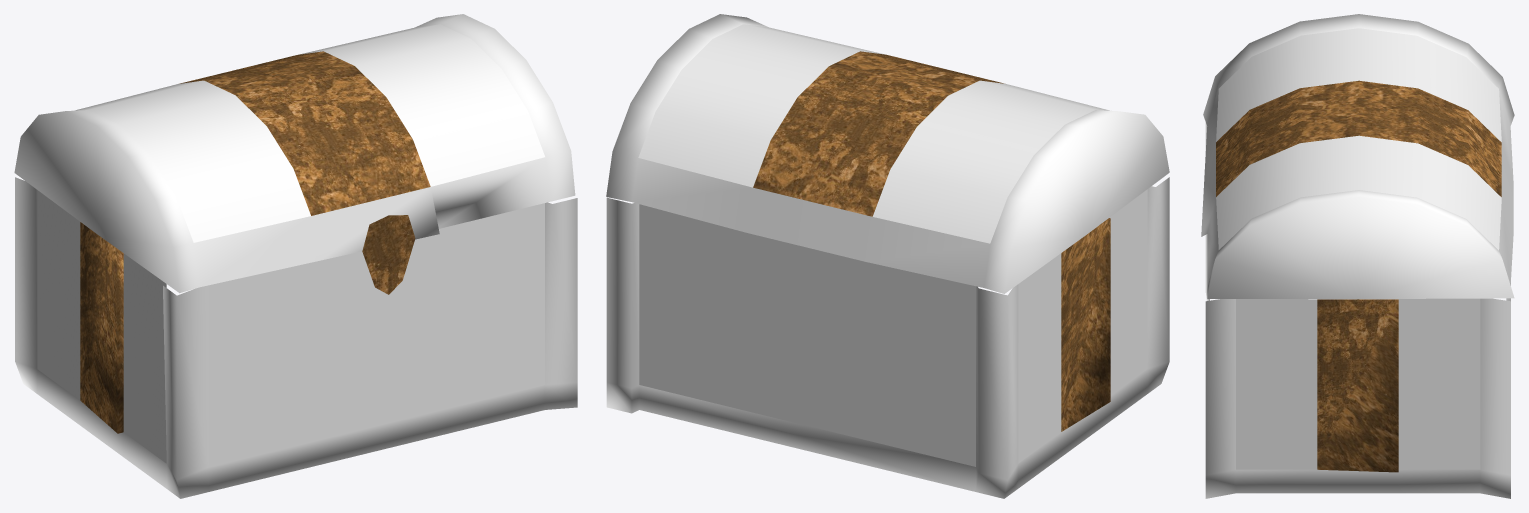
The model's file is Chest.glb.
3 renders of one model, left to right at view 1: azimuth 30°, elevation 25°; view 2: azimuth 150°, elevation 25°; view 3: azimuth 270°, elevation 25°, orthographic. The views are drawn at different scales.
Parts seen in each view (by area): view 1: woodBridge.jpg__, stkt_rustedMetal_a.png__, bronze-subsea.jpg__; view 2: woodBridge.jpg__, stkt_rustedMetal_a.png__, bronze-subsea.jpg__; view 3: woodBridge.jpg__, stkt_rustedMetal_a.png__, bronze-subsea.jpg__.
Part boxes in pixels (x1,y1,x2,y2): woodBridge.jpg__: [37, 24, 544, 466]; stkt_rustedMetal_a.png__: [14, 14, 577, 498]; bronze-subsea.jpg__: [80, 51, 430, 433]; woodBridge.jpg__: [638, 24, 1147, 466]; stkt_rustedMetal_a.png__: [606, 14, 1169, 498]; bronze-subsea.jpg__: [753, 51, 1110, 431]; woodBridge.jpg__: [1216, 28, 1501, 469]; stkt_rustedMetal_a.png__: [1201, 14, 1514, 498]; bronze-subsea.jpg__: [1216, 80, 1501, 472].
Bounding box in the file's own units: 8.24 × 6.28 × 5.98.
Materials: 3 (1 with a texture image).
